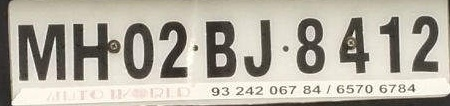character: (15, 22, 67, 82), (71, 22, 108, 82), (204, 19, 236, 78), (122, 21, 154, 79), (158, 20, 188, 79), (339, 16, 369, 74), (242, 19, 271, 78), (296, 17, 325, 75), (410, 14, 439, 72), (379, 15, 402, 73)
